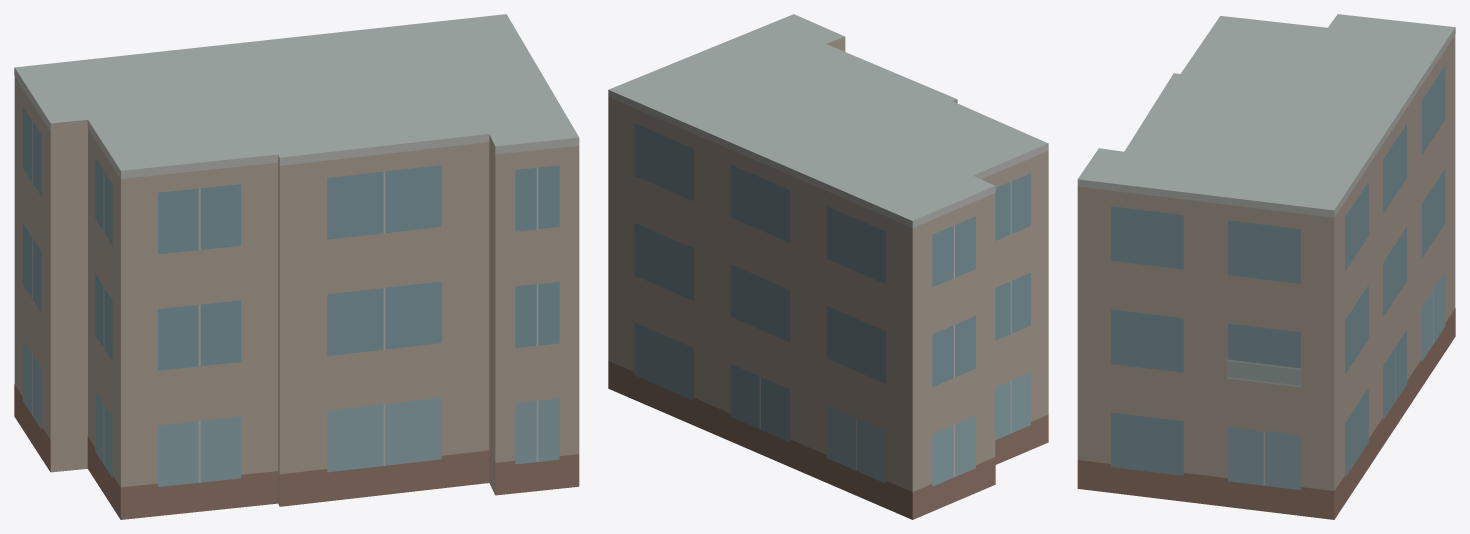
File: survey-upis-32694447.glb
3 views of the same model, side by side, from view 1: azimuth 30°, elevation 25°; view 2: azimuth 150°, elevation 25°; view 3: azimuth 270°, elevation 25° (orthographic). The views are drawn at different scales.
Parts seen in each view (by area): view 1: survey-upis-32694447.tmp; view 2: survey-upis-32694447.tmp; view 3: survey-upis-32694447.tmp.
Part boxes in pixels (bbox=[...]): survey-upis-32694447.tmp: bbox=[14, 14, 579, 519]; survey-upis-32694447.tmp: bbox=[608, 14, 1048, 519]; survey-upis-32694447.tmp: bbox=[1077, 14, 1455, 519].
Bounding box in the file's own units: 14.17 × 10.4 × 11.52.
